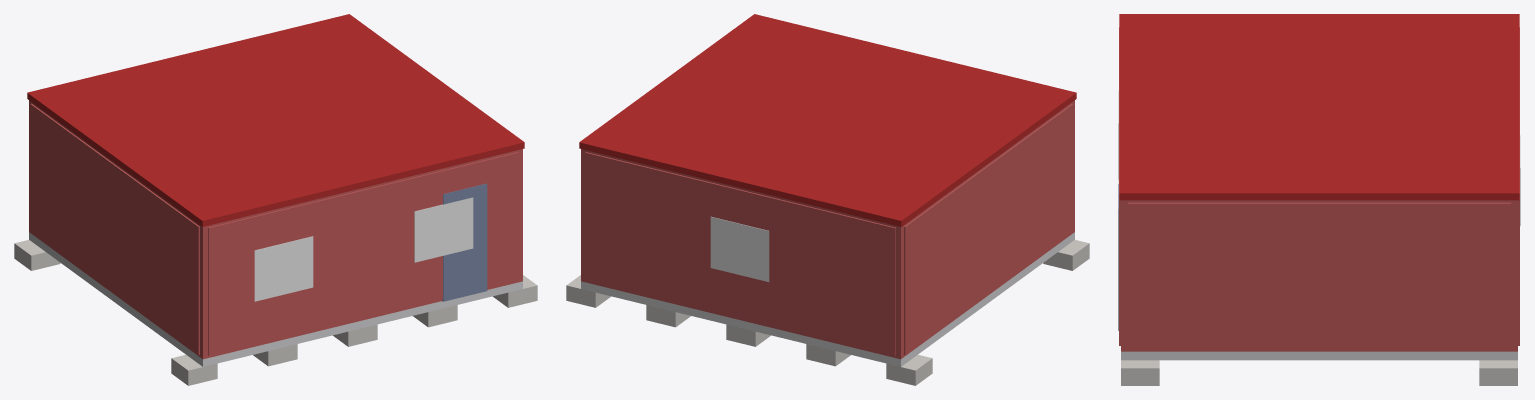
The model's file is Studio-20-Base-CrimsonRed-LOD0.glb.
3 renders of one model, left to right at view 1: azimuth 30°, elevation 25°; view 2: azimuth 150°, elevation 25°; view 3: azimuth 270°, elevation 25°, orthographic. The views are drawn at different scales.
Visible parts, largest first — view 1: RoofMain, ExteriorPanelsStandard, WindowsStandard, FoundationBlocks, BaseFrame, ExteriorShell, EntryDoor; view 2: ExteriorPanelsStandard, RoofMain, FoundationBlocks, BaseFrame, ExteriorShell, WindowsStandard; view 3: RoofMain, ExteriorPanelsStandard, ExteriorShell, BaseFrame, FoundationBlocks.
Boxes of the visible parts, x1,y1,x2,y2 form: RoofMain: (27,14,524,226); ExteriorPanelsStandard: (30,103,518,355); WindowsStandard: (254,197,473,301); FoundationBlocks: (14,240,537,385); BaseFrame: (29,232,522,366); ExteriorShell: (29,100,522,359); EntryDoor: (442,183,487,301); ExteriorPanelsStandard: (585,103,1073,355); RoofMain: (579,14,1076,226); FoundationBlocks: (566,240,1089,385); BaseFrame: (581,232,1074,366); ExteriorShell: (581,100,1074,359); WindowsStandard: (710,216,769,281); RoofMain: (1119,14,1519,200); ExteriorPanelsStandard: (1119,27,1519,349); ExteriorShell: (1121,200,1517,351); BaseFrame: (1121,351,1517,360); FoundationBlocks: (1121,360,1517,385).
Bounding box in the file's own units: 7.14 × 3.17 × 6.24.
